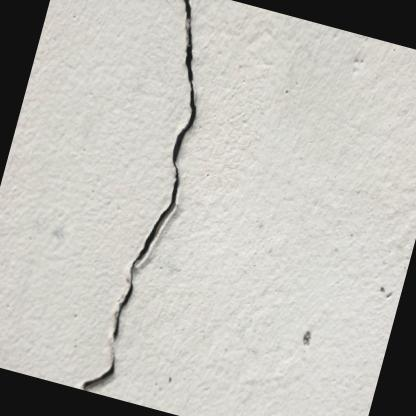crack: (76, 0, 201, 393)
